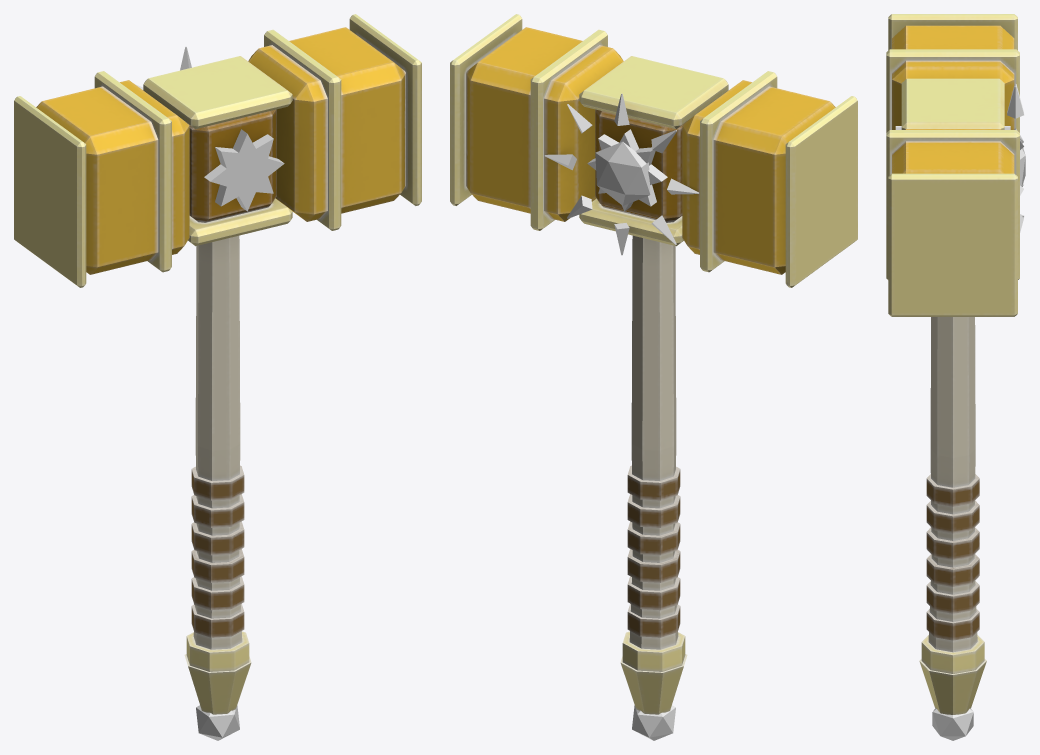
File: SunforgePickaxe.glb
3 views of the same model, side by side, from view 1: azimuth 30°, elevation 25°; view 2: azimuth 150°, elevation 25°; view 3: azimuth 270°, elevation 25° (orthographic). The views are drawn at different scales.
Parts seen in each view (by area): view 1: Body__Tex, Head__Accent, Head__Gem; view 2: Body__Tex, Head__Accent, Head__Gem; view 3: Body__Tex, Head__Gem, Head__Accent.
Boxes of the visible parts, bbox=[...] form: Body__Tex: bbox=[14, 14, 421, 714]; Head__Accent: bbox=[135, 46, 284, 211]; Head__Gem: bbox=[196, 705, 239, 740]; Body__Tex: bbox=[450, 14, 857, 714]; Head__Accent: bbox=[544, 93, 699, 255]; Head__Gem: bbox=[632, 705, 675, 740]; Body__Tex: bbox=[886, 14, 1019, 714]; Head__Gem: bbox=[932, 708, 973, 740]; Head__Accent: bbox=[895, 83, 1025, 232].
Bounding box in the file's own units: 2.24 × 4.16 × 0.8031.
Materials: 1 (1 with a texture image).
